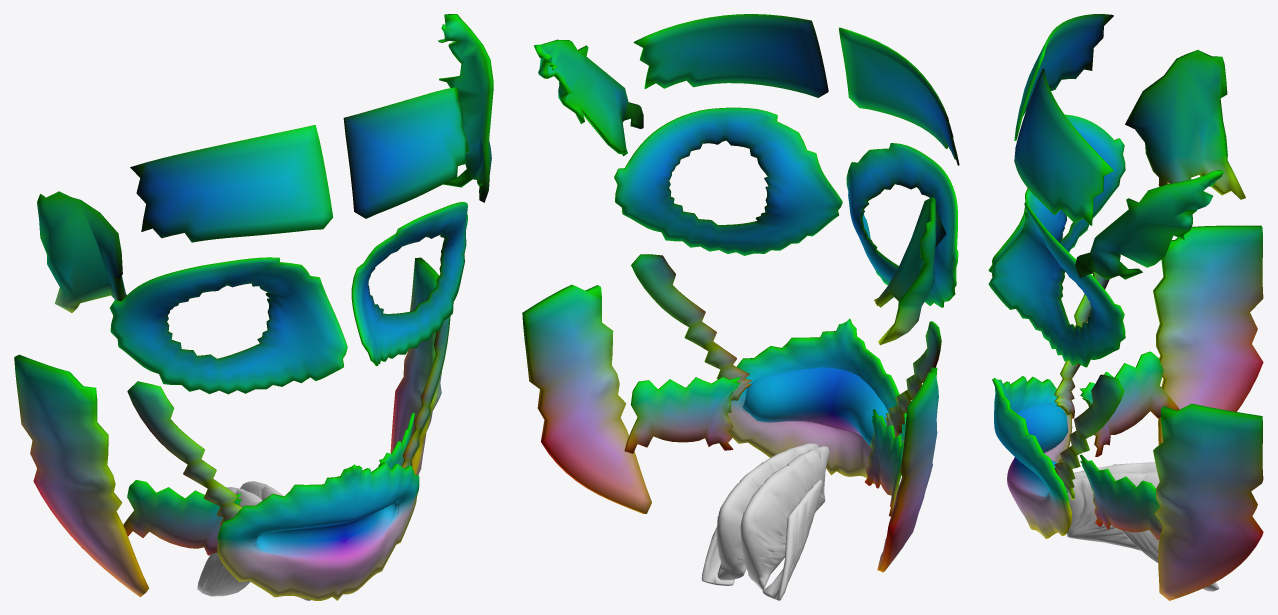
Rendered from muscles.glb.
3 renders of one model, left to right at view 1: azimuth 30°, elevation 25°; view 2: azimuth 150°, elevation 25°; view 3: azimuth 270°, elevation 25°, orthographic. The views are drawn at different scales.
Visible parts, largest first — view 1: orbicularis_oculi__right, orbicularis_oris__midline, frontalis__right, masseter__right, frontalis__left, orbicularis_oculi__left, temporalis__right, temporalis__left, buccinator__right, zygomaticus_major__right, masseter__left, tongue_muscles (+1 smaller); view 2: orbicularis_oculi__left, masseter__left, orbicularis_oris__midline, tongue_muscles, frontalis__left, orbicularis_oculi__right, frontalis__right, buccinator__left, temporalis__left, masseter__right, temporalis__right, zygomaticus_major__left (+2 smaller); view 3: masseter__left, masseter__right, temporalis__right, orbicularis_oculi__left, orbicularis_oris__midline, frontalis__left, temporalis__left, frontalis__right, tongue_muscles, buccinator__right, orbicularis_oculi__right, buccinator__left (+2 smaller).
Boxes of the visible parts, bbox=[...] form: orbicularis_oculi__right: bbox=[110, 257, 347, 394]; orbicularis_oris__midline: bbox=[217, 463, 419, 600]; frontalis__right: bbox=[130, 125, 333, 242]; masseter__right: bbox=[14, 354, 149, 597]; frontalis__left: bbox=[343, 87, 469, 218]; orbicularis_oculi__left: bbox=[351, 202, 467, 366]; temporalis__right: bbox=[37, 191, 126, 312]; temporalis__left: bbox=[438, 14, 493, 202]; buccinator__right: bbox=[123, 480, 241, 555]; zygomaticus_major__right: bbox=[127, 381, 241, 525]; masseter__left: bbox=[390, 257, 441, 475]; tongue_muscles: bbox=[197, 481, 310, 600]; orbicularis_oculi__left: bbox=[614, 107, 842, 255]; masseter__left: bbox=[522, 284, 651, 513]; orbicularis_oris__midline: bbox=[727, 318, 906, 483]; tongue_muscles: bbox=[701, 443, 829, 600]; frontalis__left: bbox=[633, 14, 828, 97]; orbicularis_oculi__right: bbox=[846, 143, 958, 307]; frontalis__right: bbox=[839, 27, 959, 165]; buccinator__left: bbox=[624, 376, 740, 453]; temporalis__left: bbox=[534, 39, 643, 156]; masseter__right: bbox=[877, 367, 938, 572]; temporalis__right: bbox=[874, 197, 946, 345]; zygomaticus_major__left: bbox=[631, 254, 752, 400]; masseter__left: bbox=[1153, 403, 1263, 600]; masseter__right: bbox=[1153, 225, 1263, 444]; temporalis__right: bbox=[1125, 50, 1245, 199]; orbicularis_oculi__left: bbox=[988, 202, 1125, 367]; orbicularis_oris__midline: bbox=[992, 376, 1072, 538]; frontalis__left: bbox=[1014, 68, 1113, 225]; temporalis__left: bbox=[1075, 170, 1223, 279]; frontalis__right: bbox=[1014, 14, 1113, 140]; tongue_muscles: bbox=[1066, 462, 1218, 591]; buccinator__right: bbox=[1080, 351, 1179, 456]; orbicularis_oculi__right: bbox=[988, 114, 1125, 272]; buccinator__left: bbox=[1079, 454, 1163, 539].
Size of the model in its own units: 13.64 by 16.32 by 7.89.
